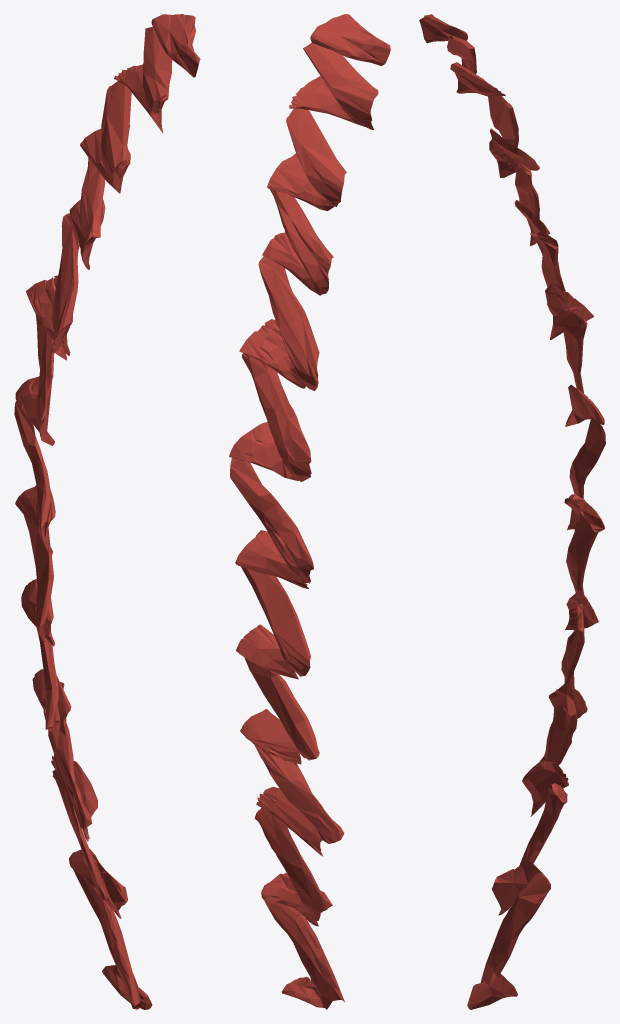
File: musculos-multifidus-thoracis-muscle-r.glb
3 renders of one model, left to right at view 1: azimuth 90°, elevation 25°; view 2: azimuth 150°, elevation 25°; view 3: azimuth 270°, elevation 25°, orthographic. The views are drawn at different scales.
Visible parts, largest first — view 1: Multifidus thoracis muscle.r; view 2: Multifidus thoracis muscle.r; view 3: Multifidus thoracis muscle.r.
Boxes of the visible parts, x1,y1,x2,y2 form: Multifidus thoracis muscle.r: (14,14,200,1009); Multifidus thoracis muscle.r: (229,14,390,1009); Multifidus thoracis muscle.r: (419,14,605,1009).
Bounding box in the file's own units: 0.0262 × 0.3079 × 0.0524.
